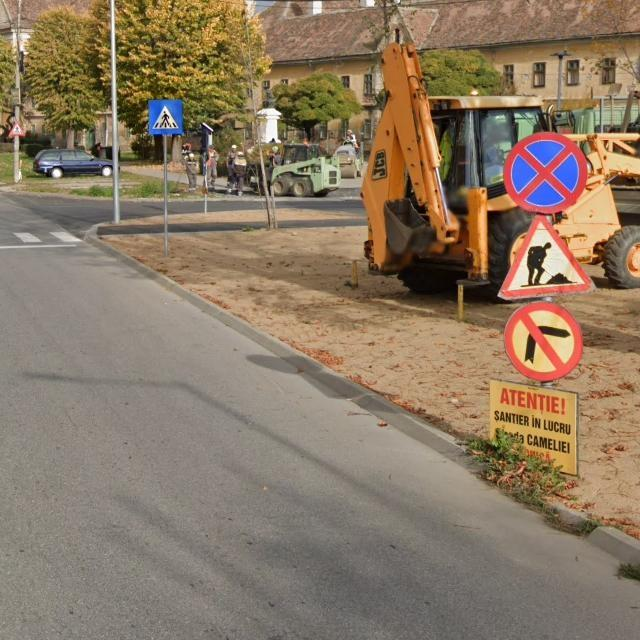forb_waiting: (503, 133, 588, 214)
info_crosswalk: (148, 100, 184, 135)
